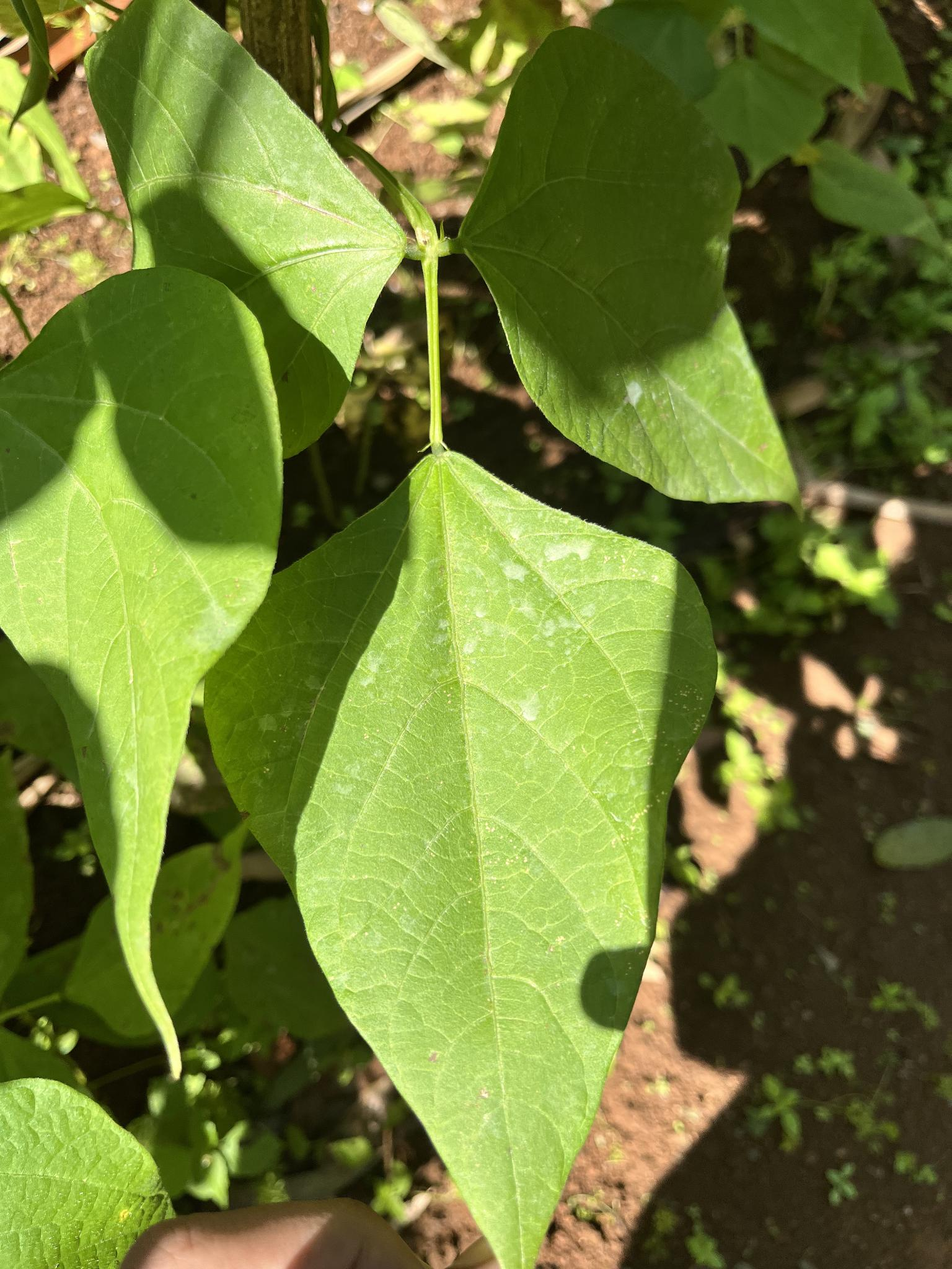embun tepung: (471, 483, 620, 639)
